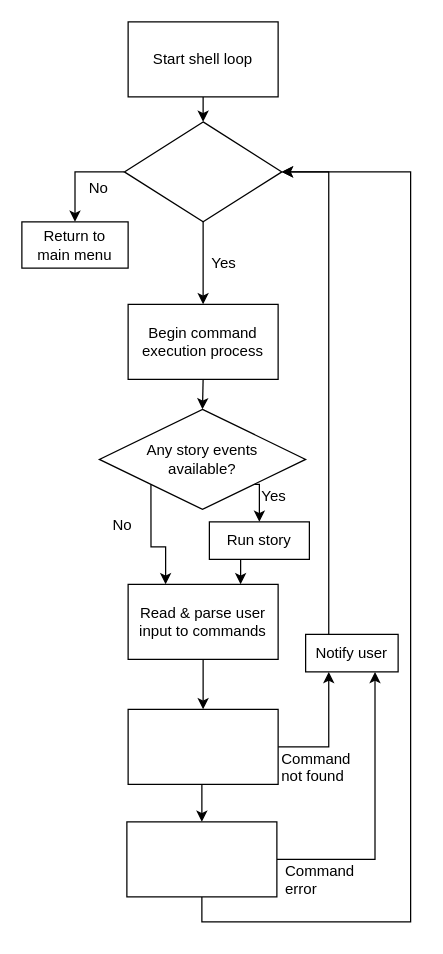
Image size: 443x954. Some labels were removed from this diagram. Here are the shapes that lost their labels. From the top down, the centre of each, then its label:
At (202,171): "Is shell still running?".
At (202,746): "Locate executable from user input".
At (201,859): "Execute command with arguments".
